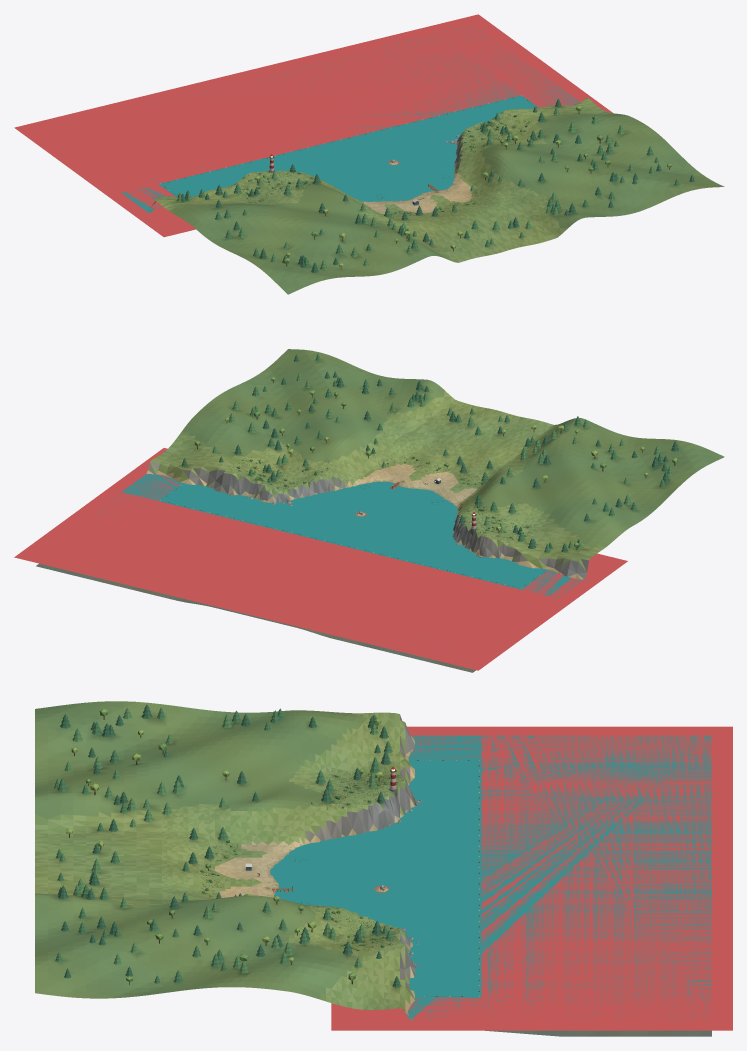
File: cove_01.glb
3 renders of one model, top to bottom at view 1: azimuth 30°, elevation 25°; view 2: azimuth 150°, elevation 25°; view 3: azimuth 270°, elevation 25°, orthographic. The views are drawn at different scales.
Parts seen in each view (by area): view 1: deco_terrain.002, open_sea_col, water.002, deco_trees_sway.002, east_sea_col, west_sea_col; view 2: deco_terrain.002, open_sea_col, water.002, deco_trees_sway.002, west_sea_col, east_sea_col; view 3: deco_terrain.002, water.002, open_sea_col, east_sea_col, deco_trees_sway.002, west_sea_col.
Boxes of the visible parts, x1,y1,x2,y2 form: deco_terrain.002: (149,98,724,294); open_sea_col: (14,14,571,196); water.002: (122,26,579,213); deco_trees_sway.002: (176,98,694,272); east_sea_col: (428,14,612,113); west_sea_col: (15,115,195,237); deco_terrain.002: (36,349,724,672); open_sea_col: (14,489,571,670); water.002: (96,474,583,646); deco_trees_sway.002: (181,354,679,552); west_sea_col: (428,553,627,669); east_sea_col: (18,448,182,569); deco_terrain.002: (35,701,711,1036); water.002: (270,735,711,1021); open_sea_col: (481,726,732,1030); east_sea_col: (331,997,732,1030); deco_trees_sway.002: (54,704,400,987); west_sea_col: (407,726,732,759).
Bounding box in the file's own units: 340 × 32.77 × 340.
